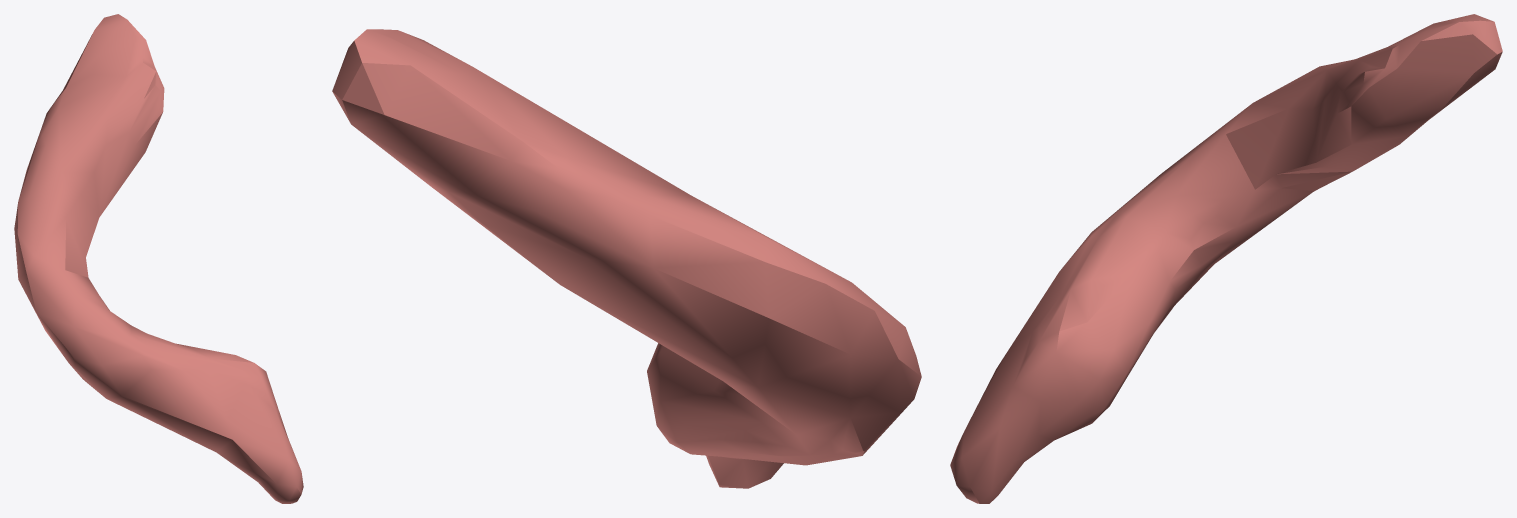
The model's file is fma21930_fj1450.glb.
3 views of the same model, side by side, from view 1: azimuth 30°, elevation 25°; view 2: azimuth 150°, elevation 25°; view 3: azimuth 270°, elevation 25° (orthographic). The views are drawn at different scales.
Visible parts, largest first — view 1: FMA21930_FJ1450; view 2: FMA21930_FJ1450; view 3: FMA21930_FJ1450.
Boxes of the visible parts, x1=… form: FMA21930_FJ1450: x1=14, y1=14, x2=303, y2=503; FMA21930_FJ1450: x1=332, y1=29, x2=921, y2=488; FMA21930_FJ1450: x1=950, y1=14, x2=1502, y2=503.
Bounding box in the file's own units: 0.0115 × 0.0213 × 0.0218.
